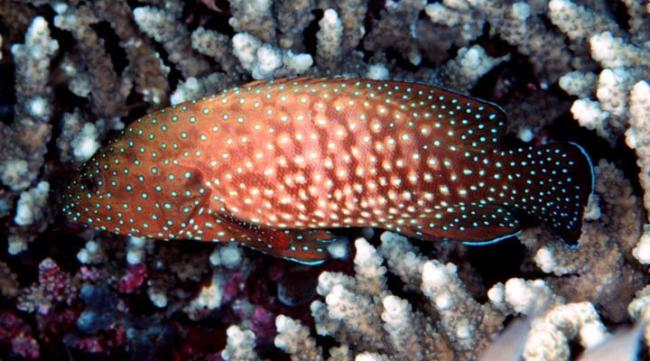fish: (62, 77, 594, 263)
